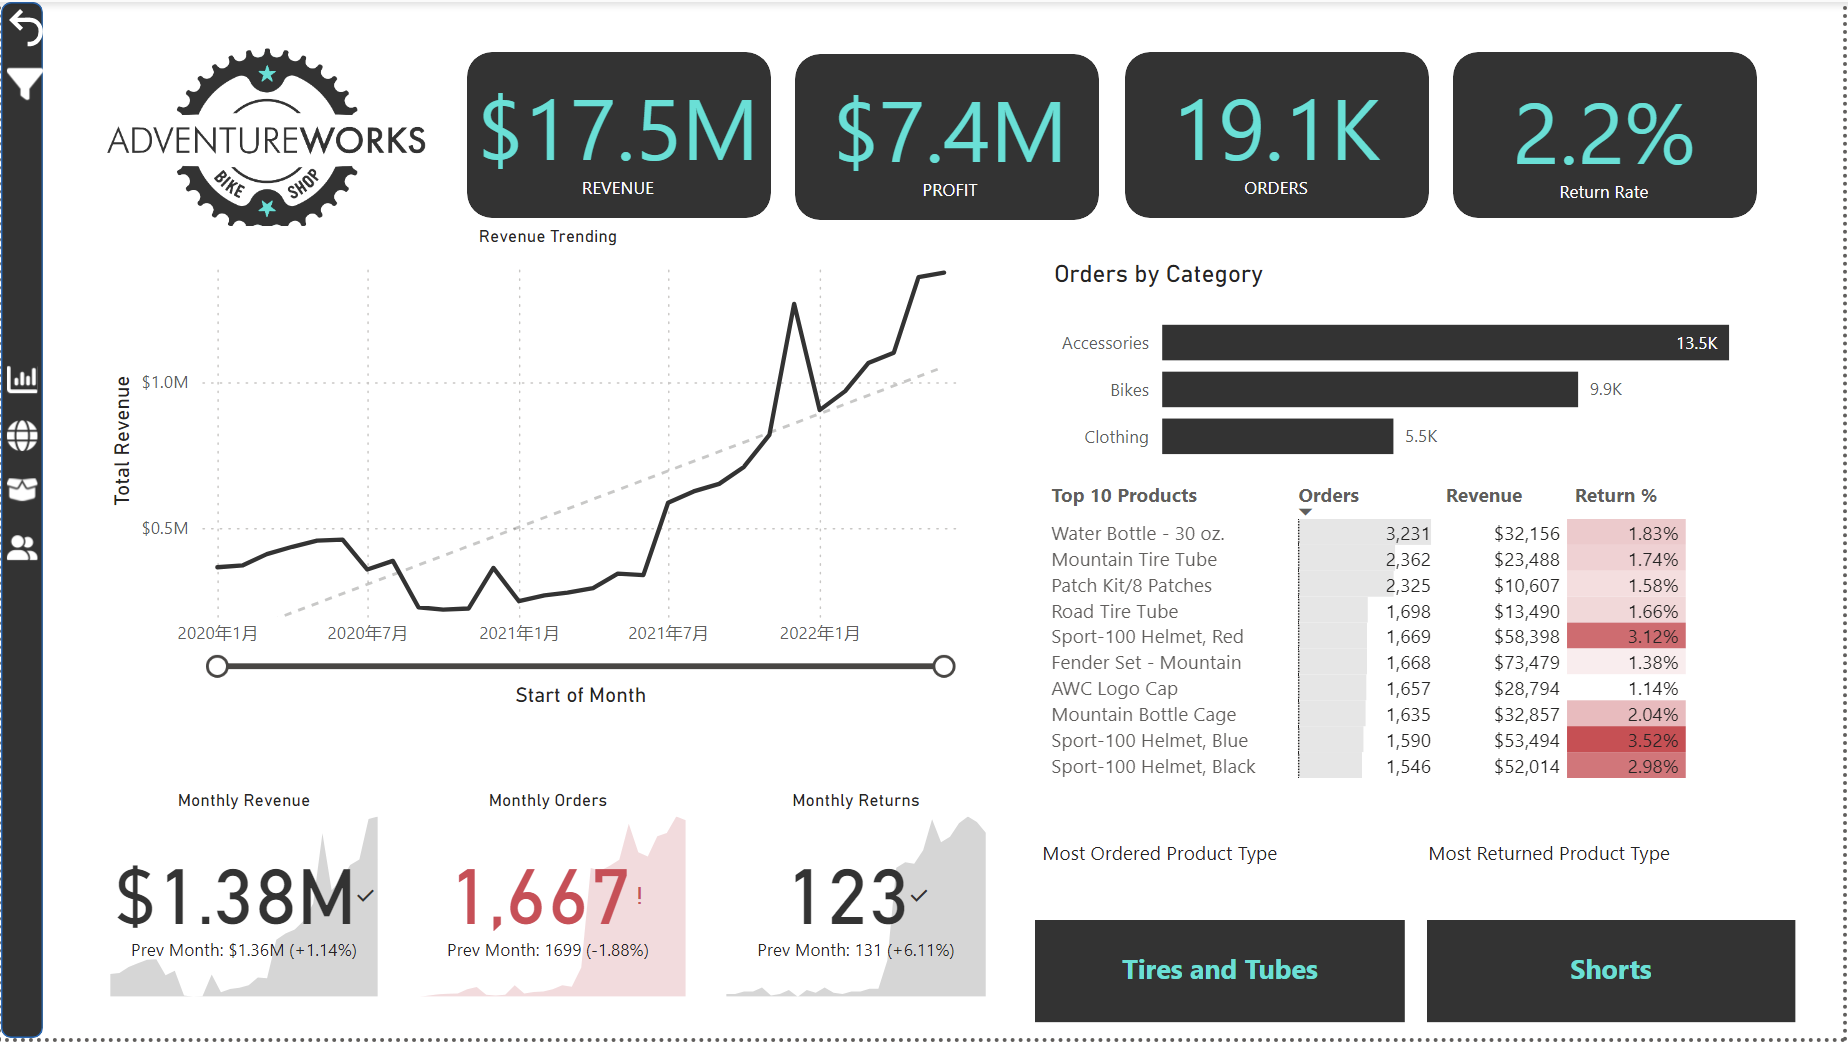

This screenshot's page, from the dashboard's own definition file:
{"tool":"powerbi","page":{"name":"Exec Dashboard","canvas":[1280,720],"ordinal":0},"visuals":[{"type":"image","title":"AW LOGO","box":[44.5,20.8,280.8,151.5],"z":0},{"type":"card","fields":{"Values":["Measure Table.Total Revenue"]},"box":[323.8,35.3,210,113.5],"z":0,"group":"g2"},{"type":"group","id":"g1","title":"KPI Background","box":[324,35.3,896.5,116.8],"z":0,"group":"g3"},{"type":"shape","box":[324,35.3,211.3,115.4],"z":0,"group":"g1"},{"type":"actionButton","box":[0,243.6,29.5,38.5],"z":0,"group":"g4"},{"type":"shape","title":"Left Nav Backgroud","box":[0,0,29.2,720],"z":1000},{"type":"group","id":"g2","title":"KPI Values","box":[323.8,35.3,895.8,116.6],"z":1000,"group":"g3"},{"type":"shape","box":[552,36.7,211.3,115.4],"z":1000,"group":"g1"},{"type":"card","fields":{"Values":["Measure Table.Total Profit"]},"box":[554,36.9,210,113.5],"z":1000,"group":"g2"},{"type":"actionButton","box":[0,282.1,29.5,38.5],"z":1000,"group":"g4"},{"type":"group","id":"g3","title":"KPI","box":[323.8,35.3,896.7,116.8],"z":2000},{"type":"card","fields":{"Values":["Measure Table.Total Orders"]},"box":[781.1,35.3,210,113.5],"z":2000,"group":"g2"},{"type":"shape","box":[781.3,35.3,211.3,115.4],"z":2000,"group":"g1"},{"type":"actionButton","box":[0,320.5,29.5,38.5],"z":2000,"group":"g4"},{"type":"shape","box":[1009.3,35.3,211.3,115.4],"z":3000,"group":"g1"},{"type":"card","fields":{"Values":["Measure Table.Return Rate"]},"box":[1009.7,38.4,210,113.5],"z":3000,"group":"g2"},{"type":"lineChart","title":"Revenue Trending","fields":{"Y":["Measure Table.Total Revenue"],"Category":["Calendar Lookup.Start of Month"]},"box":[70.9,155.7,618.5,337.8],"z":3000},{"type":"actionButton","box":[0,360.3,29.5,38.5],"z":3000,"group":"g4"},{"type":"kpi","title":"Monthly Revenue","fields":{"Indicator":["Measure Table.Total Revenue"],"Goal":["Measure Table.Previous Month Revenue"],"TrendLine":["Calendar Lookup.Start of Month"]},"box":[70.9,547.6,196,148.7],"z":4000},{"type":"kpi","title":"Monthly Orders","fields":{"TrendLine":["Calendar Lookup.Start of Month"],"Goal":["Measure Table.Previous Month Orders"],"Indicator":["Measure Table.Total Orders"]},"box":[279.4,547.6,201.5,148.7],"z":5000},{"type":"kpi","title":"Monthly Returns","fields":{"TrendLine":["Calendar Lookup.Start of Month"],"Goal":["Measure Table.Previous Month Returns"],"Indicator":["Measure Table.Total Returns"]},"box":[499,547.6,190.4,148.7],"z":6000},{"type":"barChart","title":"Orders by Category","fields":{"Category":["Product Categories Lookup.CategoryName"],"Y":["Measure Table.Total Orders"]},"box":[726.9,179.3,493.4,154.3],"z":7000},{"type":"pivotTable","fields":{"Rows":["Product Lookup.ProductName"],"Values":["Measure Table.Total Orders","Measure Table.Total Revenue","Measure Table.Return Rate"]},"box":[720,328,543.5,221],"z":8000},{"type":"card","fields":{"Values":["Min(Product Subcategories Lookup.SubcategoryName)"]},"box":[718.6,638,257.1,70.9],"z":9000},{"type":"textbox","box":[718.6,576.8,255.8,38.9],"z":10000},{"type":"textbox","box":[986.9,576.5,238.4,39.1],"z":11000},{"type":"card","fields":{"Values":["Min(Product Subcategories Lookup.SubcategoryName)"]},"box":[991,638,255.8,70.9],"z":12000},{"type":"actionButton","box":[0,0,67.6,35.3],"z":13000},{"type":"group","id":"g4","title":"Navigation buttons","box":[0,243.6,29.5,155.1],"z":14000},{"type":"actionButton","box":[0,39.7,44.9,33.3],"z":15000}]}

Visuals, with their boxes on the page's 1280x720 design canvas (x1, y1, x2, y2). These are canvas units, not pixel positions in the 1848x1046 screenshot, which may show the page scaled, cropped or inside an application window:
"AW LOGO" image: [44, 21, 325, 172]
card - Measure Table.Total Revenue: [324, 35, 534, 149]
"KPI Background" group: [324, 35, 1220, 152]
shape: [324, 35, 535, 151]
actionButton: [0, 244, 30, 282]
"Left Nav Backgroud" shape: [0, 0, 29, 720]
"KPI Values" group: [324, 35, 1220, 152]
shape: [552, 37, 763, 152]
card - Measure Table.Total Profit: [554, 37, 764, 150]
actionButton: [0, 282, 30, 321]
"KPI" group: [324, 35, 1220, 152]
card - Measure Table.Total Orders: [781, 35, 991, 149]
shape: [781, 35, 993, 151]
actionButton: [0, 320, 30, 359]
shape: [1009, 35, 1221, 151]
card - Measure Table.Return Rate: [1010, 38, 1220, 152]
"Revenue Trending" lineChart: [71, 156, 689, 494]
actionButton: [0, 360, 30, 399]
"Monthly Revenue" kpi: [71, 548, 267, 696]
"Monthly Orders" kpi: [279, 548, 481, 696]
"Monthly Returns" kpi: [499, 548, 689, 696]
"Orders by Category" barChart: [727, 179, 1220, 334]
pivotTable - Product Lookup.ProductName x Measure Table.Total Orders: [720, 328, 1264, 549]
card - Min(Product Subcategories Lookup.SubcategoryName): [719, 638, 976, 709]
textbox: [719, 577, 974, 616]
textbox: [987, 576, 1225, 616]
card - Min(Product Subcategories Lookup.SubcategoryName): [991, 638, 1247, 709]
actionButton: [0, 0, 68, 35]
"Navigation buttons" group: [0, 244, 30, 399]
actionButton: [0, 40, 45, 73]
